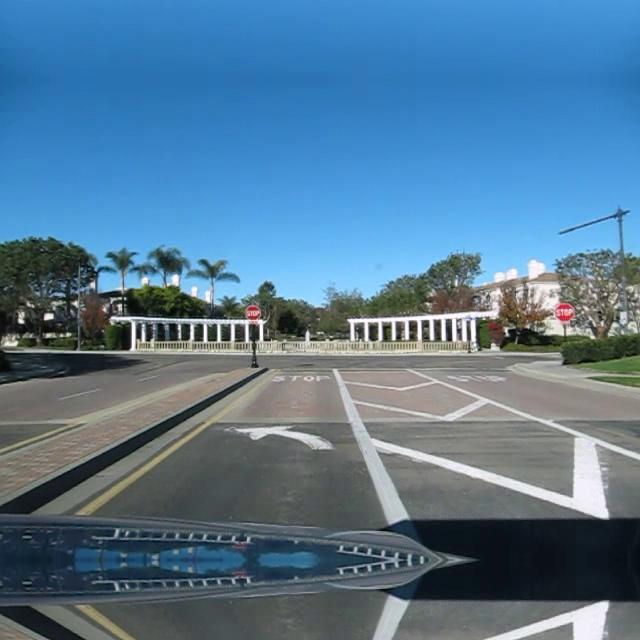stop: (554, 302, 574, 322), (244, 304, 260, 320)
